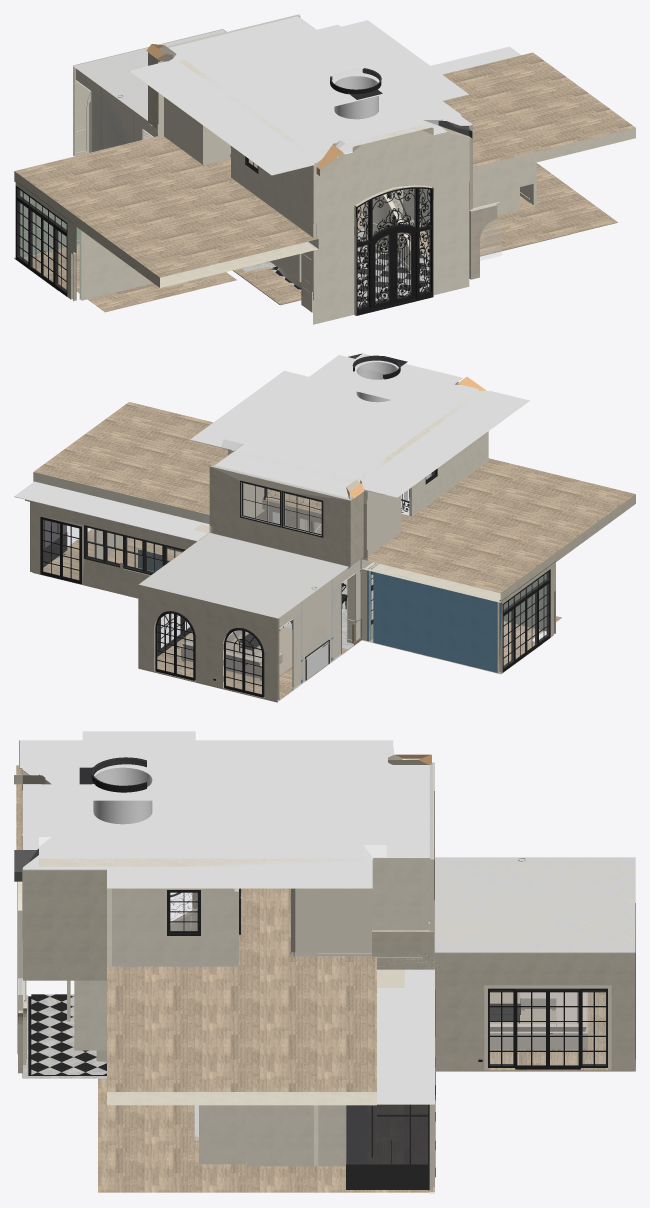
The model's file is family-room-5e320195ef19.glb.
3 renders of one model, top to bottom at view 1: azimuth 30°, elevation 25°; view 2: azimuth 150°, elevation 25°; view 3: azimuth 270°, elevation 25°, orthographic. The views are drawn at different scales.
Parts seen in each view (by area): view 1: family-room-look-2575515a05775d9e, family-room-look-e8793759323e04f0, family-room-look-9d91b47435c6fb33, family-room-look-34525a54e63b733b, family-room-look-3b0077416469e01b, family-room-look-d5a4a1b5d3594c04, family-room-look-5f56640b372ec5ce, family-room-look-746250f96522f643, family-room-4a969f5cc1ae3dfe, family-room-look-d999b7e09afcf2f4, family-room-look-bce662e26d5a5947, family-room-9d80b152e3f2ea10 (+31 smaller); view 2: family-room-look-2575515a05775d9e, family-room-look-e8793759323e04f0, family-room-look-9d91b47435c6fb33, family-room-4a969f5cc1ae3dfe, family-room-look-b19b106fc304963c, family-room-look-245f595ae2832e16, family-room-969b861f9850351e, family-room-9d80b152e3f2ea10, family-room-look-bfb9fa537cd11d1d, family-room-look-9a0e9ee9b2a451d7, family-room-look-5f56640b372ec5ce, family-room-50d54560d247b537 (+27 smaller); view 3: family-room-look-2575515a05775d9e, family-room-look-e8793759323e04f0, family-room-look-9d91b47435c6fb33, family-room-4a969f5cc1ae3dfe, family-room-look-3b0077416469e01b, family-room-e706aa16b4547c37, family-room-look-62353aa10fc57f23, family-room-50d54560d247b537, family-room-look-c51ecd664a3b22a3, family-room-look-9a0e9ee9b2a451d7, family-room-look-5f56640b372ec5ce, family-room-look-69af8f587252f9fa (+27 smaller).
Boxes of the visible parts, x1,y1,x2,y2 form: family-room-look-2575515a05775d9e: [14, 52, 635, 287]; family-room-look-e8793759323e04f0: [179, 23, 461, 155]; family-room-look-9d91b47435c6fb33: [129, 16, 472, 175]; family-room-look-34525a54e63b733b: [313, 126, 469, 243]; family-room-look-3b0077416469e01b: [14, 163, 617, 304]; family-room-look-d5a4a1b5d3594c04: [313, 207, 469, 324]; family-room-look-5f56640b372ec5ce: [252, 58, 402, 115]; family-room-look-746250f96522f643: [231, 146, 316, 237]; family-room-4a969f5cc1ae3dfe: [73, 29, 225, 120]; family-room-look-d999b7e09afcf2f4: [79, 229, 152, 300]; family-room-look-bce662e26d5a5947: [355, 187, 433, 315]; family-room-9d80b152e3f2ea10: [76, 69, 157, 151]; family-room-look-2575515a05775d9e: [33, 402, 635, 602]; family-room-look-e8793759323e04f0: [221, 355, 478, 483]; family-room-look-9d91b47435c6fb33: [190, 370, 529, 498]; family-room-4a969f5cc1ae3dfe: [138, 532, 348, 618]; family-room-look-b19b106fc304963c: [373, 570, 499, 672]; family-room-look-245f595ae2832e16: [209, 465, 350, 566]; family-room-969b861f9850351e: [138, 585, 279, 701]; family-room-9d80b152e3f2ea10: [279, 559, 360, 688]; family-room-look-bfb9fa537cd11d1d: [30, 501, 196, 597]; family-room-look-9a0e9ee9b2a451d7: [14, 481, 209, 541]; family-room-look-5f56640b372ec5ce: [323, 353, 462, 407]; family-room-50d54560d247b537: [138, 532, 343, 618]; family-room-look-2575515a05775d9e: [16, 765, 376, 1105]; family-room-look-e8793759323e04f0: [39, 762, 386, 866]; family-room-look-9d91b47435c6fb33: [19, 740, 429, 888]; family-room-4a969f5cc1ae3dfe: [434, 857, 635, 953]; family-room-look-3b0077416469e01b: [98, 925, 434, 1192]; family-room-e706aa16b4547c37: [435, 953, 630, 1070]; family-room-look-62353aa10fc57f23: [23, 870, 111, 980]; family-room-50d54560d247b537: [434, 857, 635, 953]; family-room-look-c51ecd664a3b22a3: [112, 888, 238, 966]; family-room-look-9a0e9ee9b2a451d7: [377, 969, 434, 1104]; family-room-look-5f56640b372ec5ce: [82, 731, 195, 800]; family-room-look-69af8f587252f9fa: [291, 888, 371, 952].
Size of the model in its own units: 21.02 by 7.94 by 16.88.
64 materials, 12 textured.
